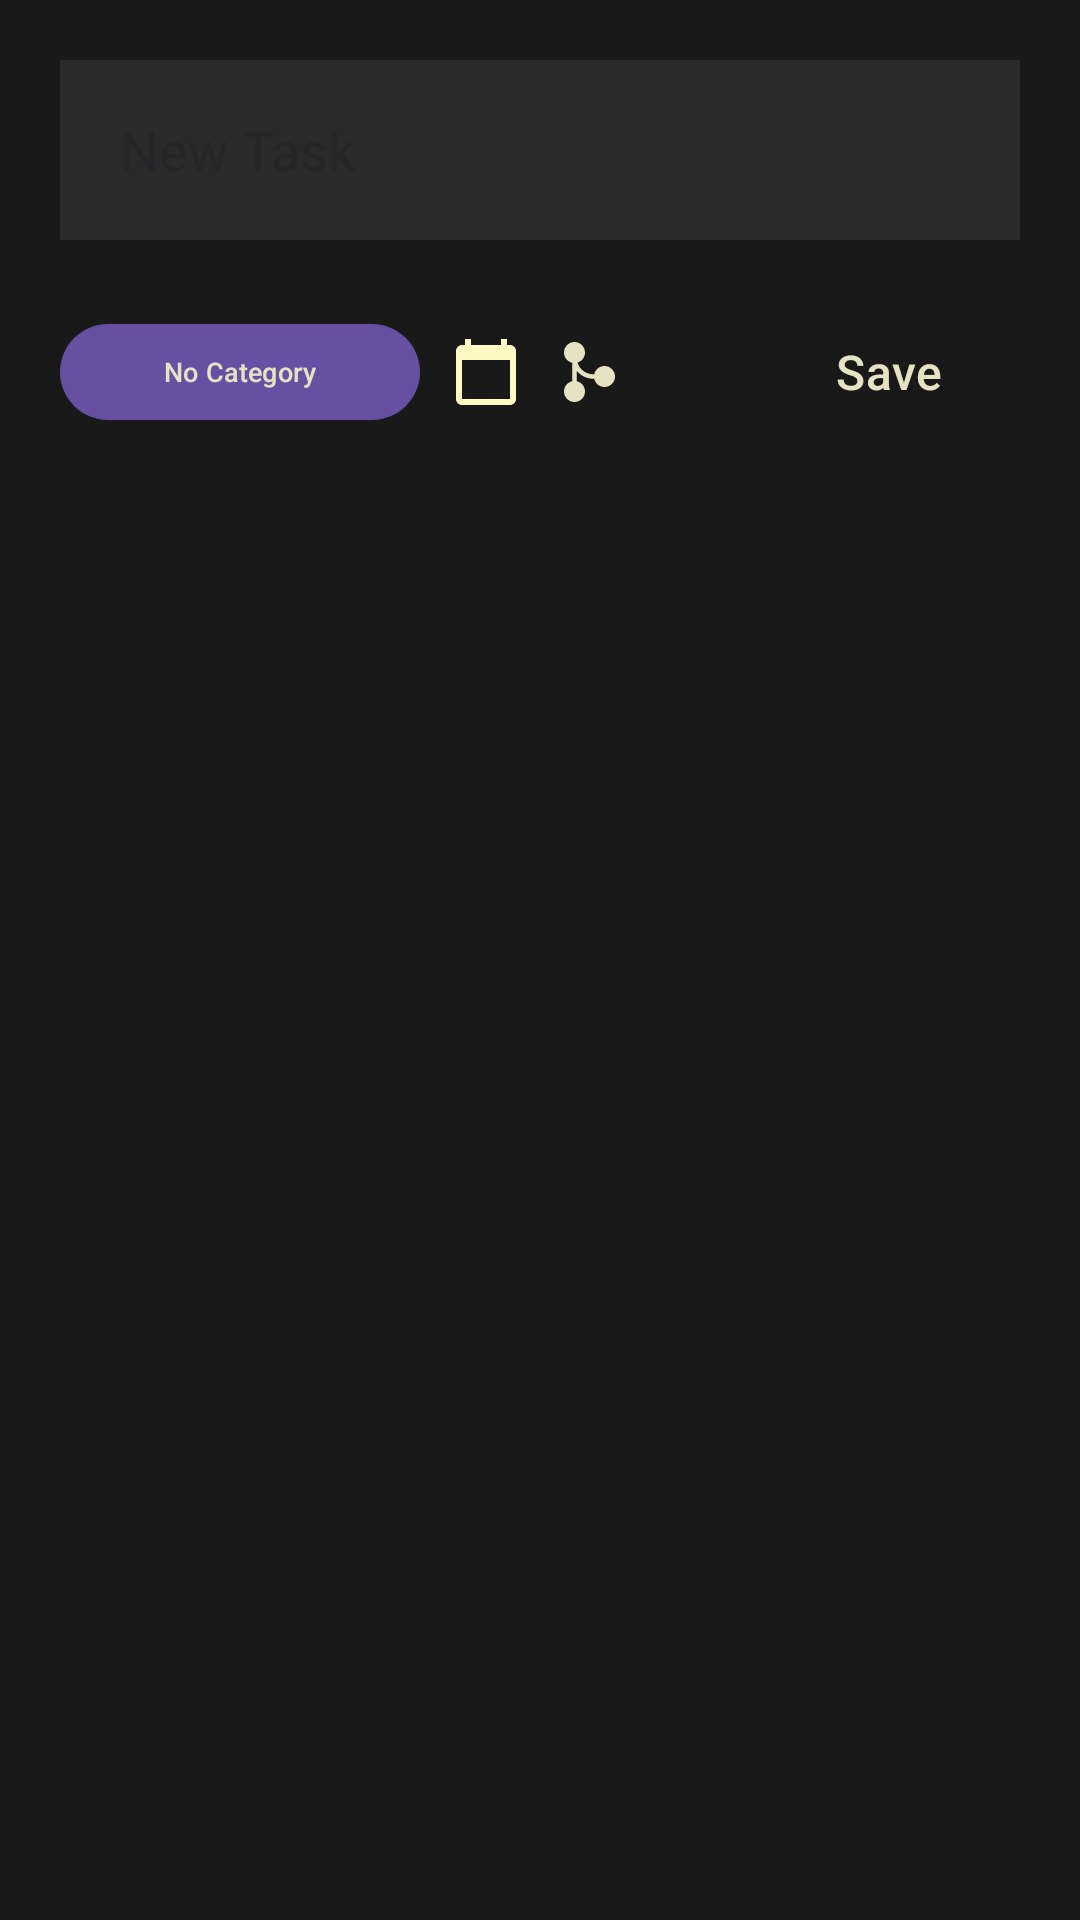

Icons on this 1080px x 1920px Android screen, each with its box as (x1, y1, x2, y2):
branch: (564, 342, 615, 402)
calendar: (456, 339, 516, 405)
